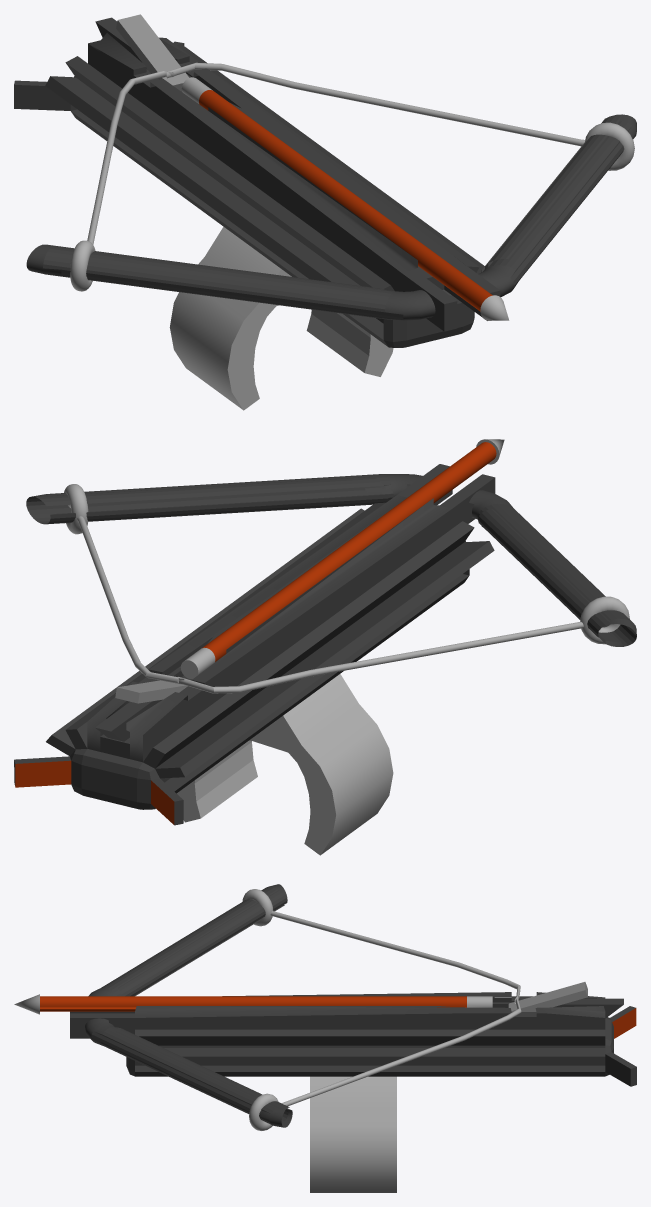
The model's file is pmCrossBowArrowWristAttachment.fbx.
The picture shows the model from 3 angles, top to bottom: view 1: azimuth 30°, elevation 25°; view 2: azimuth 150°, elevation 25°; view 3: azimuth 270°, elevation 25°; orthographic projection. The views are drawn at different scales.
Visible parts, largest first — view 1: Crossbow1_pCube2, Wrist_Attachment, Arrow; view 2: Crossbow1_pCube2, Wrist_Attachment, Arrow; view 3: Crossbow1_pCube2, Wrist_Attachment, Arrow.
Part boxes in pixels (x1,y1,x2,y2): Crossbow1_pCube2: [14, 14, 636, 347]; Wrist_Attachment: [169, 226, 393, 410]; Arrow: [181, 77, 509, 320]; Crossbow1_pCube2: [14, 464, 636, 825]; Wrist_Attachment: [176, 674, 393, 855]; Arrow: [180, 439, 504, 678]; Crossbow1_pCube2: [70, 884, 636, 1130]; Wrist_Attachment: [310, 1076, 396, 1192]; Arrow: [14, 994, 492, 1014].
Size of the model in its own units: 4.12 by 1.55 by 4.82.
